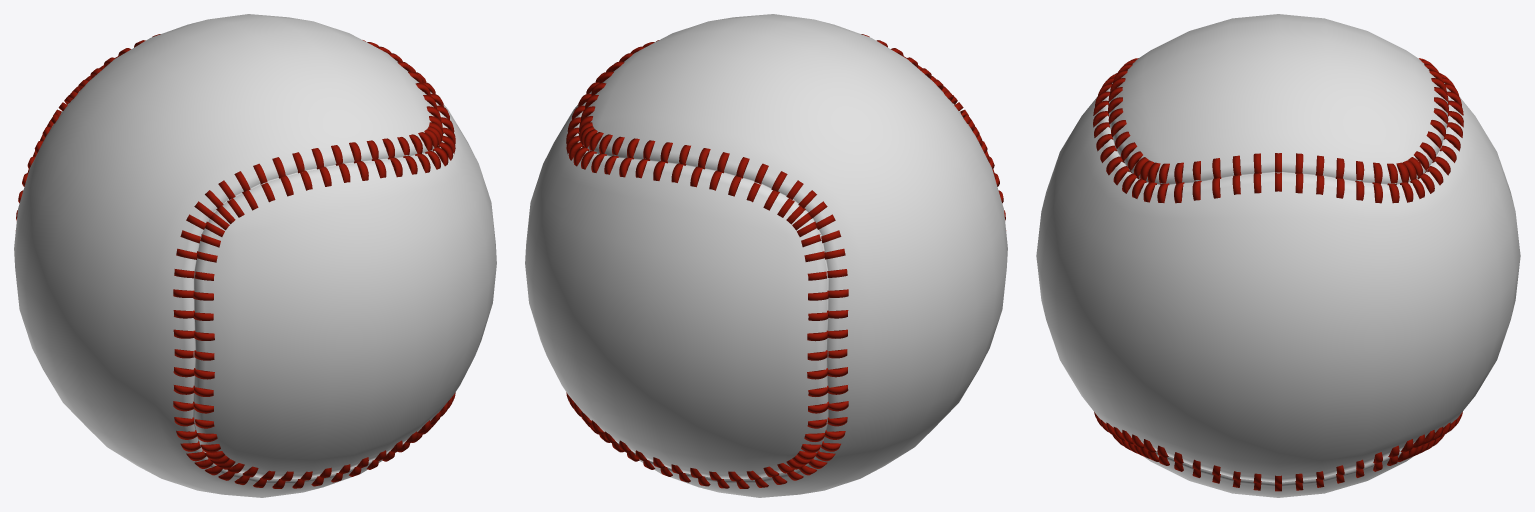
File: baseball.fbx
The picture shows the model from 3 angles, left to right: view 1: azimuth 30°, elevation 25°; view 2: azimuth 150°, elevation 25°; view 3: azimuth 270°, elevation 25°; orthographic projection.
Parts seen in each view (by area): view 1: Cube, Curve1, Curve2; view 2: Cube, Curve1, Curve2; view 3: Cube, Curve2, Curve1.
Part boxes in pixels (<box>): Cube: <box>14,14,496,497</box>; Curve1: <box>15,34,442,488</box>; Curve2: <box>27,56,455,481</box>; Cube: <box>525,14,1007,497</box>; Curve1: <box>579,34,1006,488</box>; Curve2: <box>566,56,994,481</box>; Cube: <box>1036,14,1520,497</box>; Curve2: <box>1093,73,1463,484</box>; Curve1: <box>1108,58,1448,491</box>.
Bounding box in the file's own units: 171 × 171 × 171.
